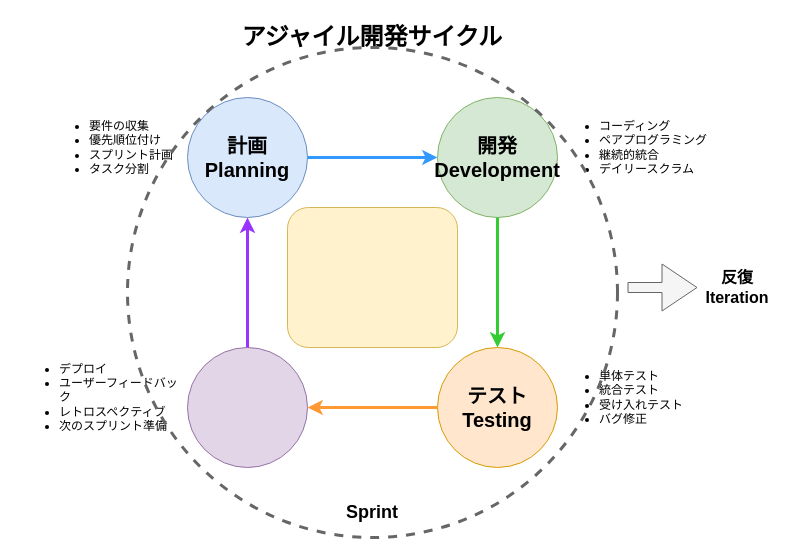
Some shapes in this 794 by 556 pixel diagram are drawn without their labels. Here are the shapes that lost their labels. From the top down, the centre of each, then its label:
[372,277]: アジャイル価値 Agile Values ・個人と対話 ・動くソフトウェア ・顧客との協調 ・変化への対応
[247,407]: リリース Release
